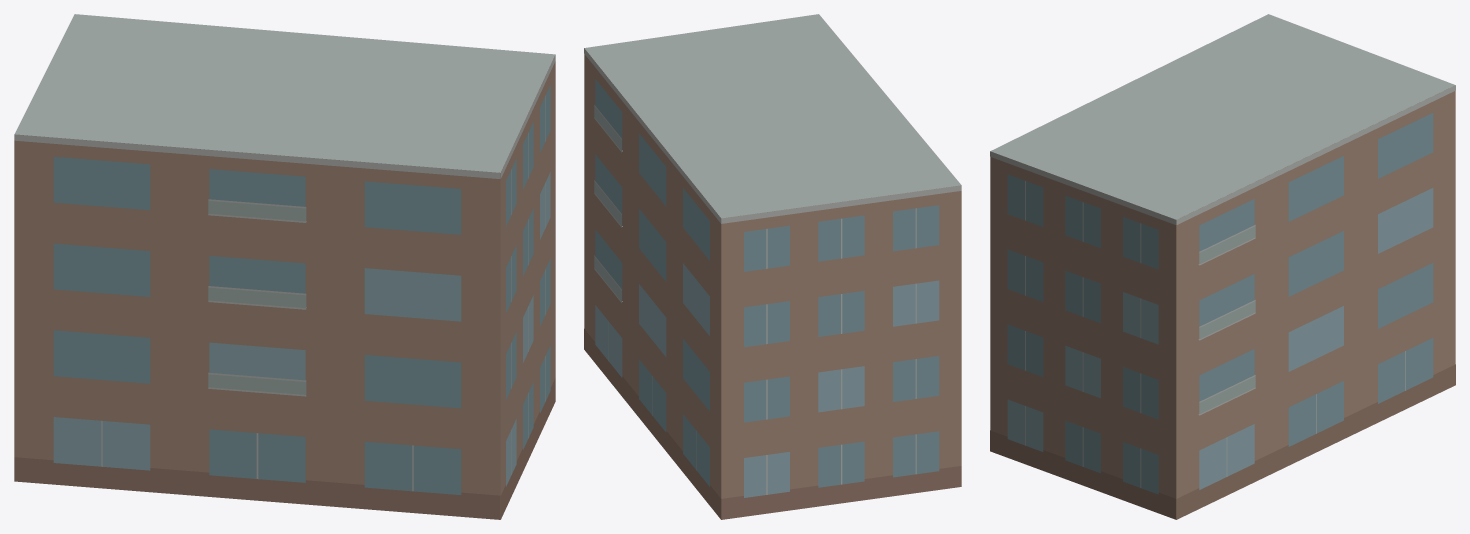
The model's file is survey-upis-32523386.glb.
3 renders of one model, left to right at view 1: azimuth 30°, elevation 25°; view 2: azimuth 150°, elevation 25°; view 3: azimuth 270°, elevation 25°, orthographic. The views are drawn at different scales.
Parts seen in each view (by area): view 1: survey-upis-32523386.tmp; view 2: survey-upis-32523386.tmp; view 3: survey-upis-32523386.tmp.
Boxes of the visible parts, x1=… form: survey-upis-32523386.tmp: x1=14, y1=14, x2=555, y2=519; survey-upis-32523386.tmp: x1=584, y1=14, x2=961, y2=519; survey-upis-32523386.tmp: x1=990, y1=14, x2=1455, y2=519.
Bounding box in the file's own units: 19.72 × 13.4 × 18.85.
